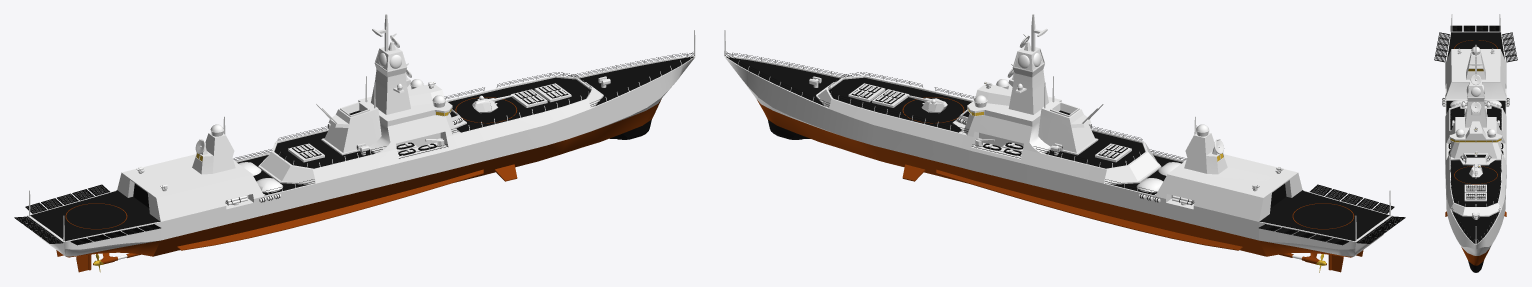
3 views of the same model, side by side, from view 1: azimuth 30°, elevation 25°; view 2: azimuth 150°, elevation 25°; view 3: azimuth 270°, elevation 25° (orthographic). The views are drawn at different scales.
Visible parts, largest first — view 1: Hull, Cube.001, FlightMesh_1, Railing.004, Railing.002, Capaciters, FlightMesh_1.001, VLS_1.002, VLS_1, VLS_1.001; view 2: Hull, Cube.001, FlightMesh_1, Railing.004, Railing.002, Capaciters, FlightMesh_1.001, VLS_1.002, VLS_1.001, VLS_1; view 3: Hull, FlightMesh_1, FlightMesh_1.001, Railing.004, VLS_1, VLS_1.001, Railing.002, Capaciters, DRDO KJ1800 Railgun, Radar.005, RadarDish_2, RadarDish_2.002 (+5 smaller).
Part boxes in pixels (x1,y1,x2,y2): Hull: [27, 14, 695, 257]; Cube.001: [177, 169, 483, 250]; FlightMesh_1: [25, 184, 160, 245]; Railing.004: [444, 72, 591, 133]; Railing.002: [568, 52, 694, 106]; Capaciters: [238, 162, 282, 192]; FlightMesh_1.001: [14, 216, 63, 243]; VLS_1.002: [288, 143, 324, 162]; VLS_1: [510, 89, 547, 107]; VLS_1.001: [534, 83, 571, 102]; Hull: [724, 14, 1392, 257]; Cube.001: [936, 169, 1242, 250]; FlightMesh_1: [1259, 184, 1394, 245]; Railing.004: [828, 72, 974, 133]; Railing.002: [725, 51, 853, 106]; Capaciters: [1136, 162, 1180, 192]; FlightMesh_1.001: [1356, 216, 1405, 243]; VLS_1.002: [1095, 143, 1131, 162]; VLS_1.001: [848, 83, 885, 102]; VLS_1: [872, 89, 909, 107]; Hull: [1445, 31, 1506, 272]; FlightMesh_1: [1434, 32, 1517, 62]; FlightMesh_1.001: [1450, 25, 1500, 31]; Railing.004: [1450, 154, 1501, 206]; VLS_1: [1464, 184, 1486, 192]; VLS_1.001: [1464, 193, 1486, 201]; Railing.002: [1451, 208, 1500, 242]; Capaciters: [1450, 100, 1501, 107]; DRDO KJ1800 Railgun: [1469, 164, 1482, 178]; Radar.005: [1455, 129, 1496, 137]; RadarDish_2: [1470, 102, 1481, 112]; RadarDish_2.002: [1470, 74, 1481, 84].
Size of the model in its own units: 5.49 by 1.44 by 0.8503.
